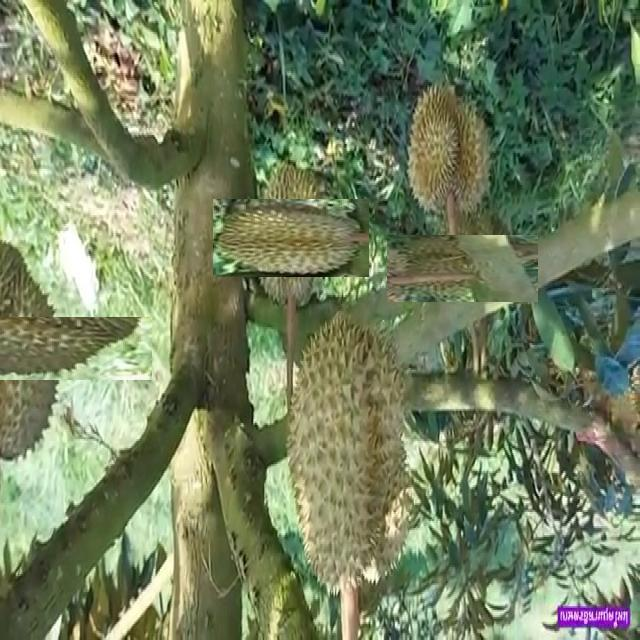durian: (286, 309, 420, 597), (0, 274, 108, 425), (232, 179, 350, 296), (403, 77, 496, 224), (408, 213, 517, 323)
